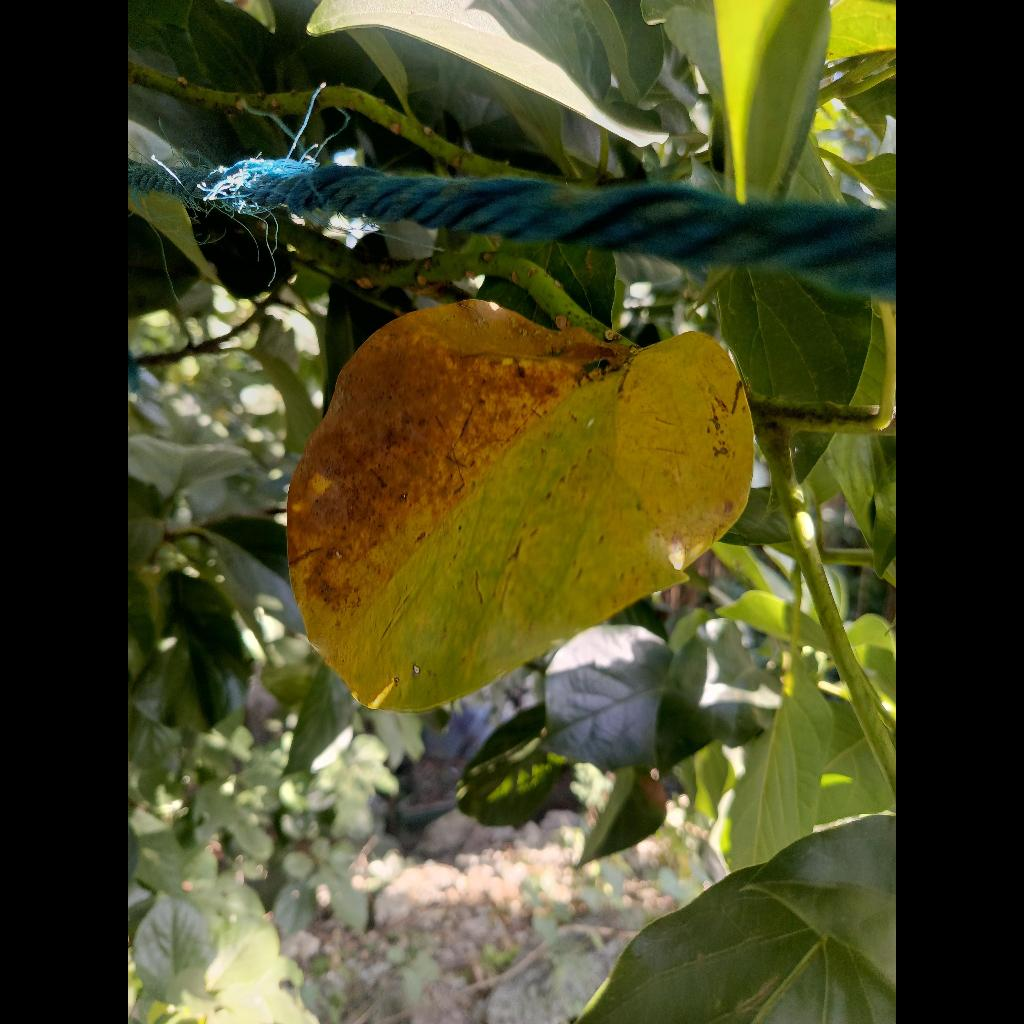deficiencia_nutricional: (288, 300, 753, 711)
